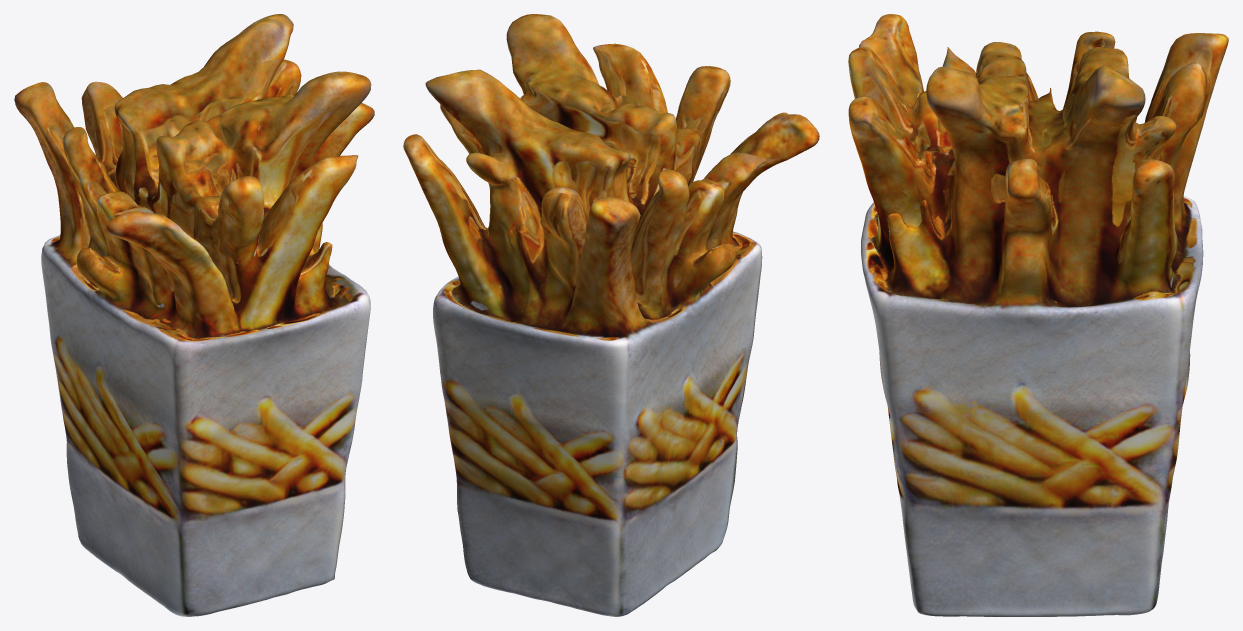
Rendered from lifelike_3d_model_of_crispy_french_fries.glb.
The picture shows the model from 3 angles, left to right: view 1: azimuth 30°, elevation 25°; view 2: azimuth 150°, elevation 25°; view 3: azimuth 270°, elevation 25°; orthographic projection. The views are drawn at different scales.
Visible parts, largest first — view 1: Object_4; view 2: Object_4; view 3: Object_4.
Boxes of the visible parts, x1=… form: Object_4: x1=14, y1=14, x2=374, y2=616; Object_4: x1=403, y1=14, x2=819, y2=616; Object_4: x1=848, y1=14, x2=1228, y2=616.
Bounding box in the file's own units: 0.6746 × 0.9993 × 0.6207.
Materials: 1 (1 with a texture image).
